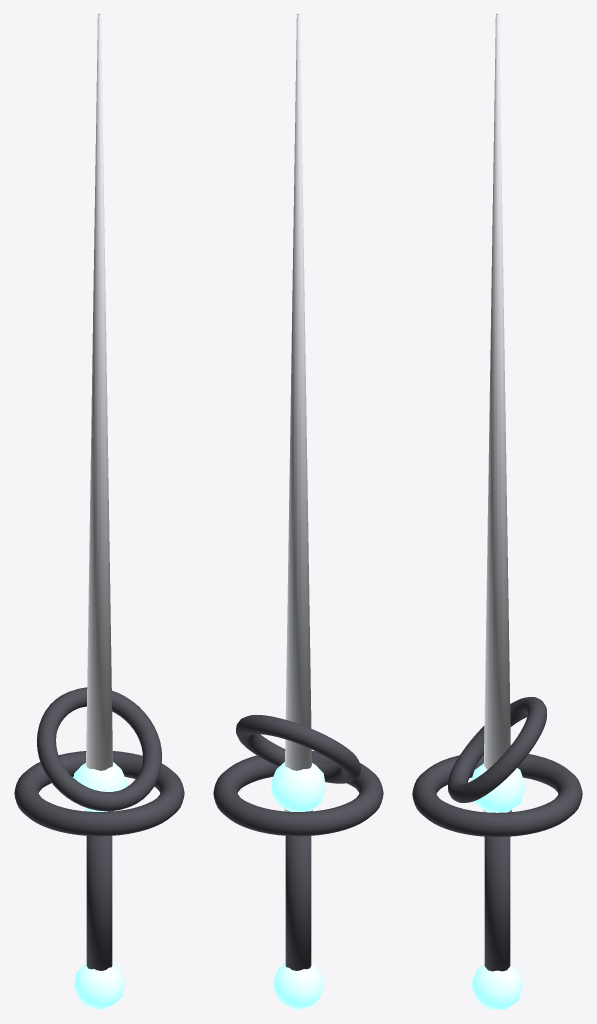
The model's file is void_rapier.glb.
3 views of the same model, side by side, from view 1: azimuth 30°, elevation 25°; view 2: azimuth 150°, elevation 25°; view 3: azimuth 270°, elevation 25° (orthographic).
Visible parts, largest first — view 1: Cone; view 2: Cone; view 3: Cone.
Part boxes in pixels (x1,y1,x2,y2): Cone: (14,14,184,1009); Cone: (213,14,383,1009); Cone: (412,14,582,1009).
Size of the model in its own units: 0.21 by 1.35 by 0.21.
